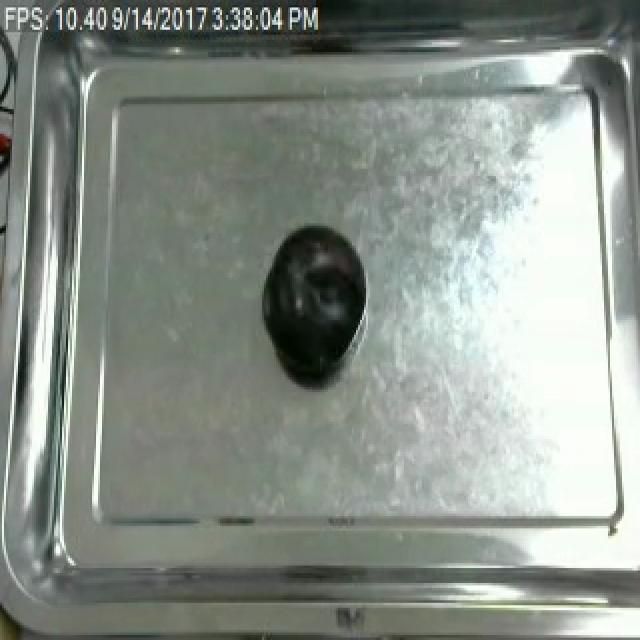Fruit: (256, 218, 368, 380)
